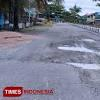Pothole: (46, 57, 100, 73), (51, 39, 100, 56)
